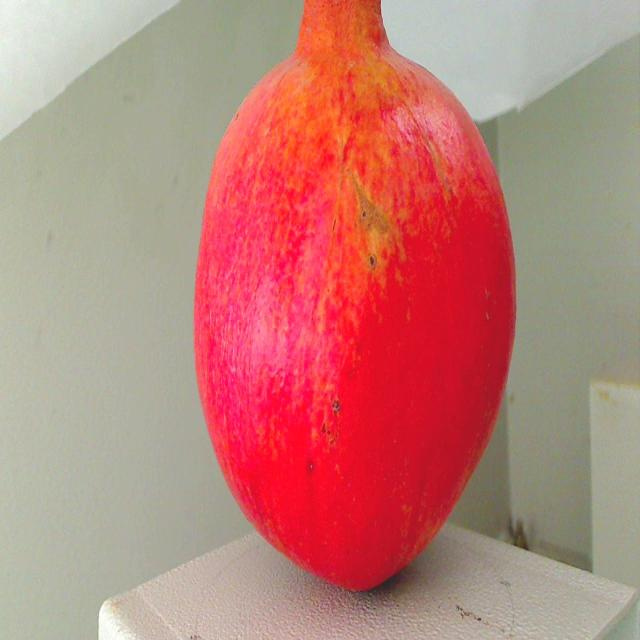pomegranate: (187, 0, 522, 614)
